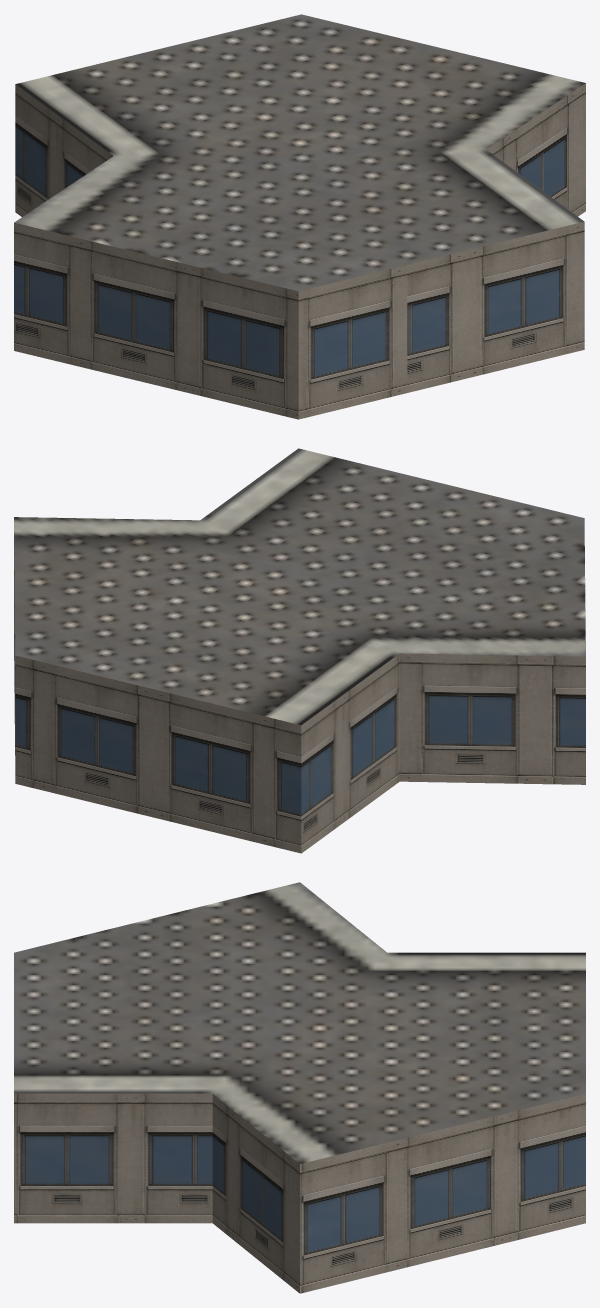
File: building_light_a_27.glb
3 views of the same model, one above another, from view 1: azimuth 30°, elevation 25°; view 2: azimuth 150°, elevation 25°; view 3: azimuth 270°, elevation 25° (orthographic).
Visible parts, largest first — view 1: buildings/saxarba/building_light/building_light_a_27; view 2: buildings/saxarba/building_light/building_light_a_27; view 3: buildings/saxarba/building_light/building_light_a_27.
Boxes of the visible parts, left/top/right/bottom form: buildings/saxarba/building_light/building_light_a_27: left=14, top=14, right=585, bottom=419; buildings/saxarba/building_light/building_light_a_27: left=14, top=448, right=585, bottom=853; buildings/saxarba/building_light/building_light_a_27: left=14, top=882, right=585, bottom=1293.
Bounding box in the file's own units: 84 × 18 × 72.
